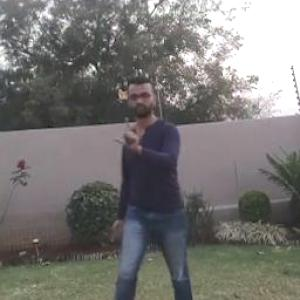land_hand: (110, 114, 145, 154)
